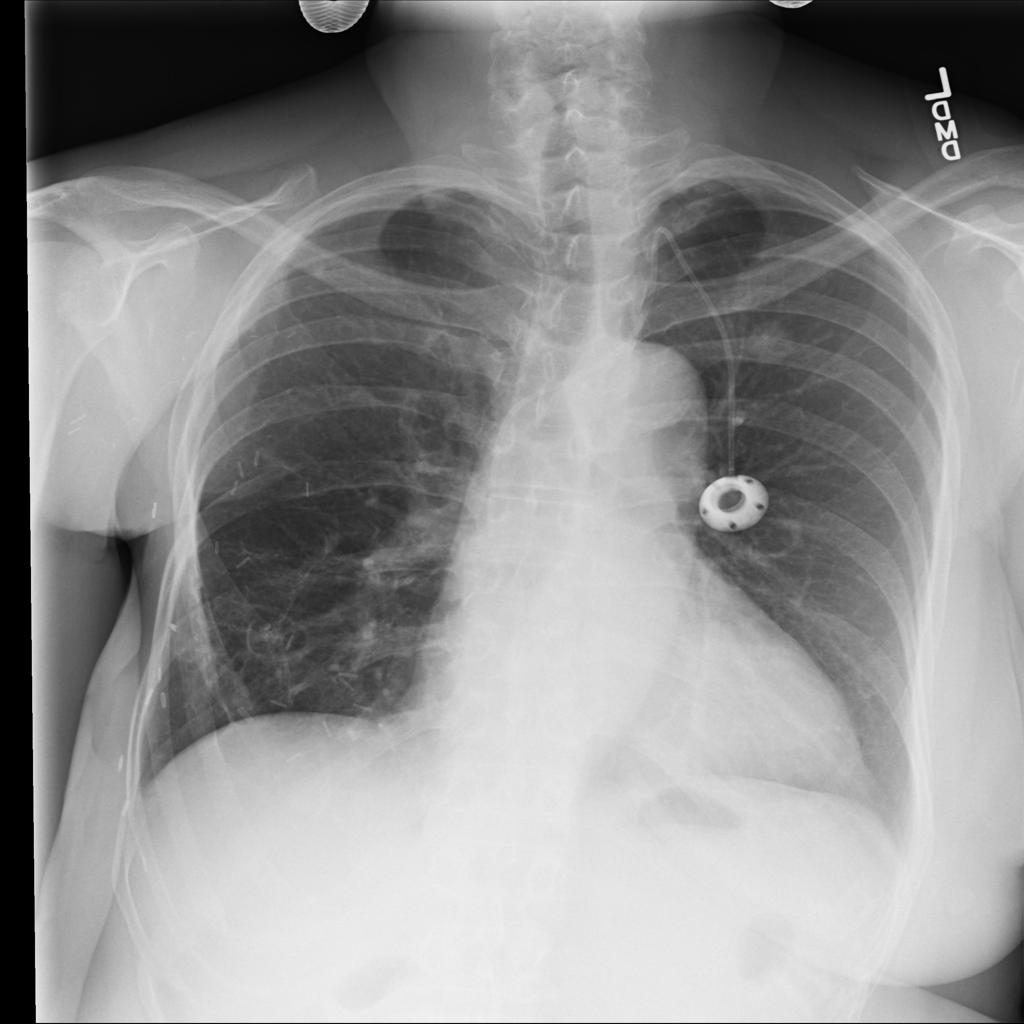nodule: (729, 308, 810, 375)
